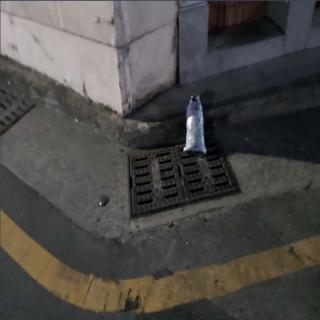Garbage: (182, 93, 208, 155)
